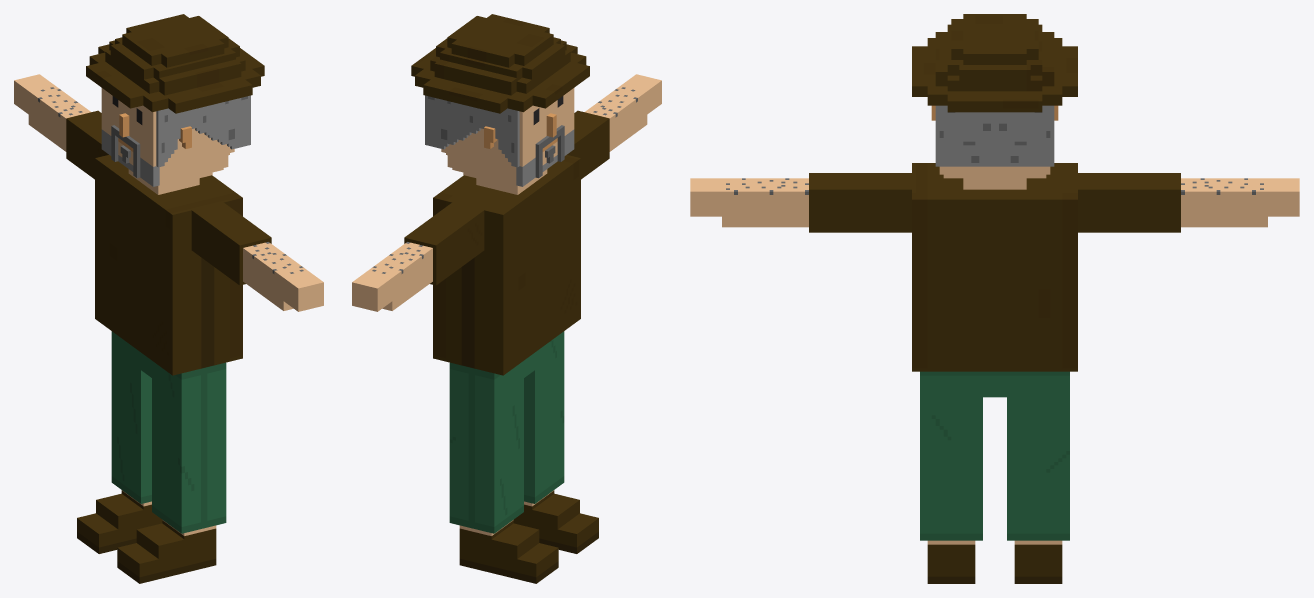
Rendered from male chars-5.obj.
3 renders of one model, left to right at view 1: azimuth 30°, elevation 25°; view 2: azimuth 150°, elevation 25°; view 3: azimuth 270°, elevation 25°, orthographic. The views are drawn at different scales.
Size of the model in its own units: 4.2 by 15.2 by 15.4.
Materials: 1 (1 with a texture image).
